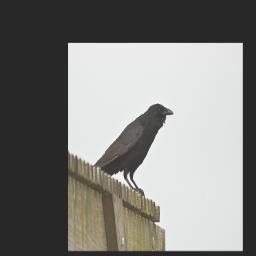Crow: (93, 102, 174, 198)
